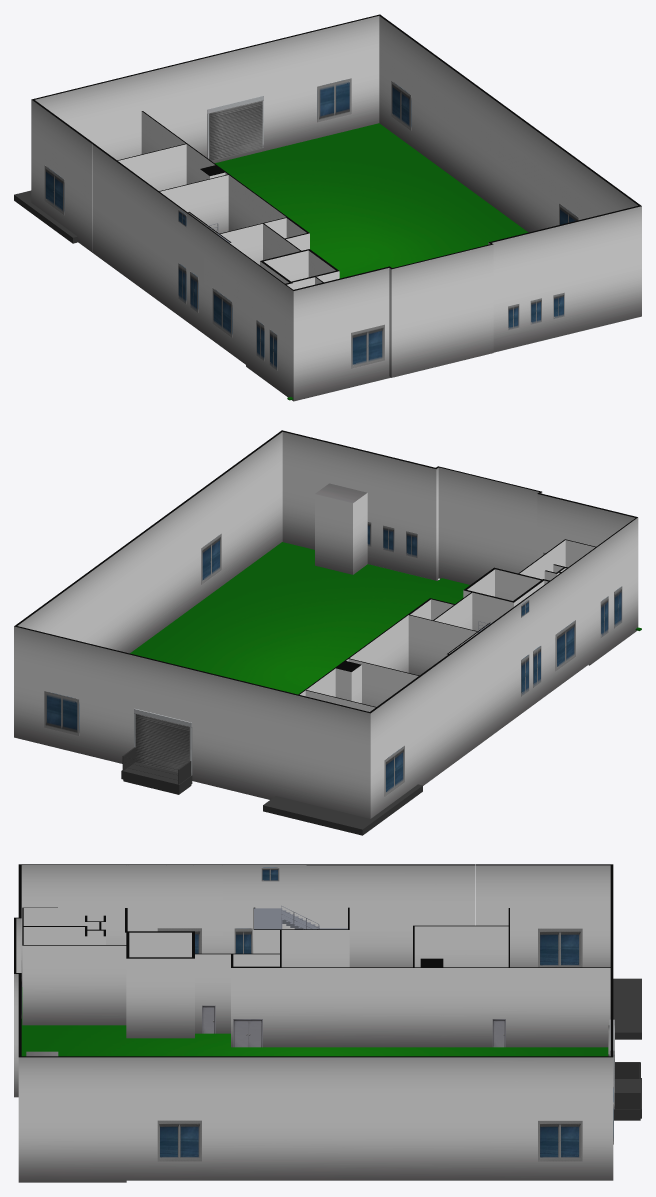
Rendered from soulbrain_T2-12 A-3F.glb.
3 renders of one model, top to bottom at view 1: azimuth 30°, elevation 25°; view 2: azimuth 150°, elevation 25°; view 3: azimuth 270°, elevation 25°, orthographic. The views are drawn at different scales.
Parts seen in each view (by area): view 1: T2-12 A-3F, Line103; view 2: T2-12 A-3F, Line103; view 3: T2-12 A-3F, Line103, Box155.
Part boxes in pixels (x1,y1,x2,y2): T2-12 A-3F: (14,14,641,401); Line103: (215,123,528,400); T2-12 A-3F: (14,430,638,835); Line103: (130,542,641,694); T2-12 A-3F: (14,864,641,1182); Line103: (21,987,608,1056); Box155: (202,1005,505,1047).
Bounding box in the file's own units: 31.2 × 9.59 × 42.26.
11 materials, 9 textured.
